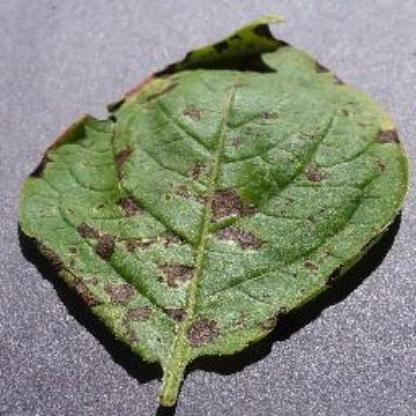Early-Blight: (14, 6, 400, 414)
